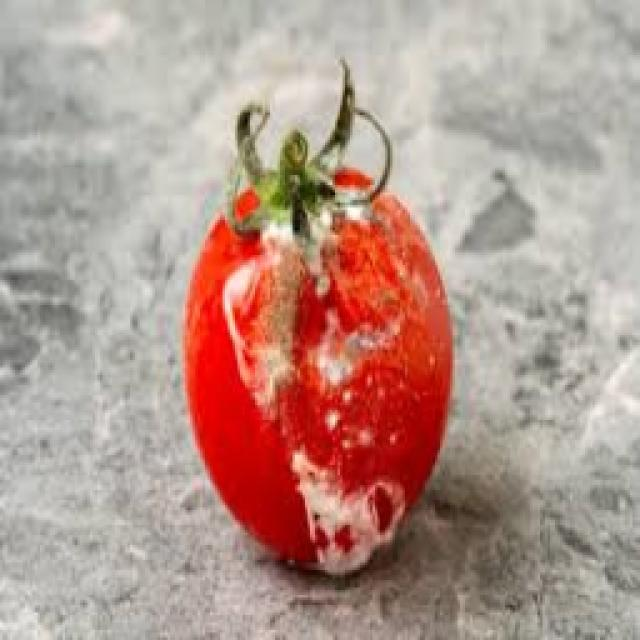Wet Waste: (180, 139, 461, 579)
